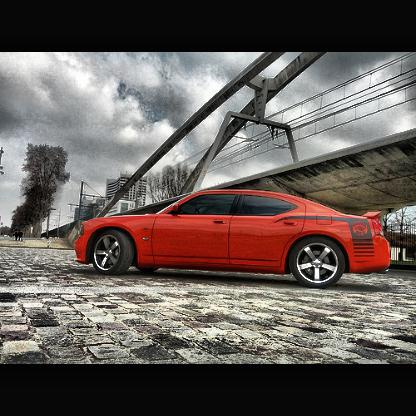Dodge Charger SRT-8 2009: (75, 189, 394, 291)
